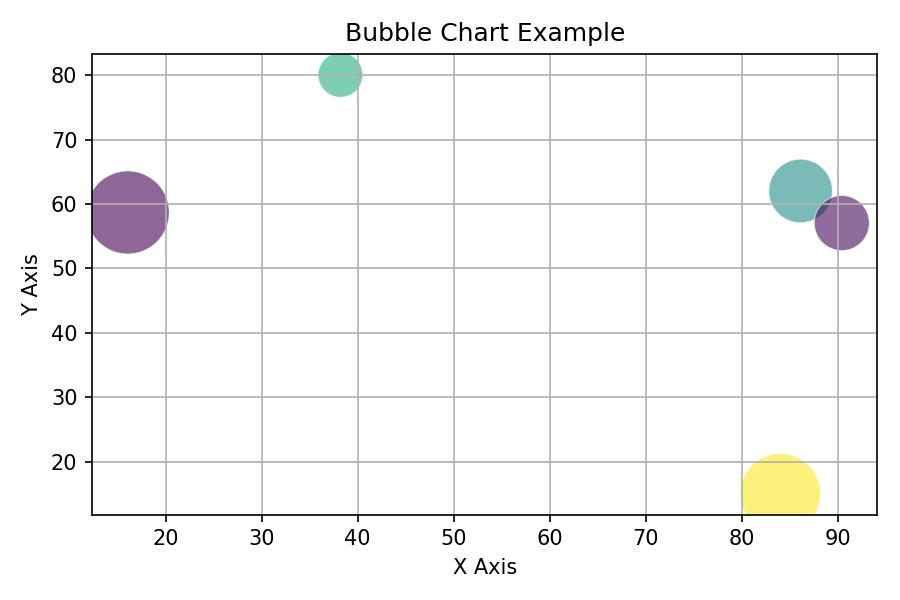axis: (60, 504, 896, 548), (44, 35, 102, 546)
circle: (92, 171, 171, 253), (738, 453, 823, 512), (769, 158, 833, 222), (816, 195, 870, 251), (318, 53, 364, 98)
